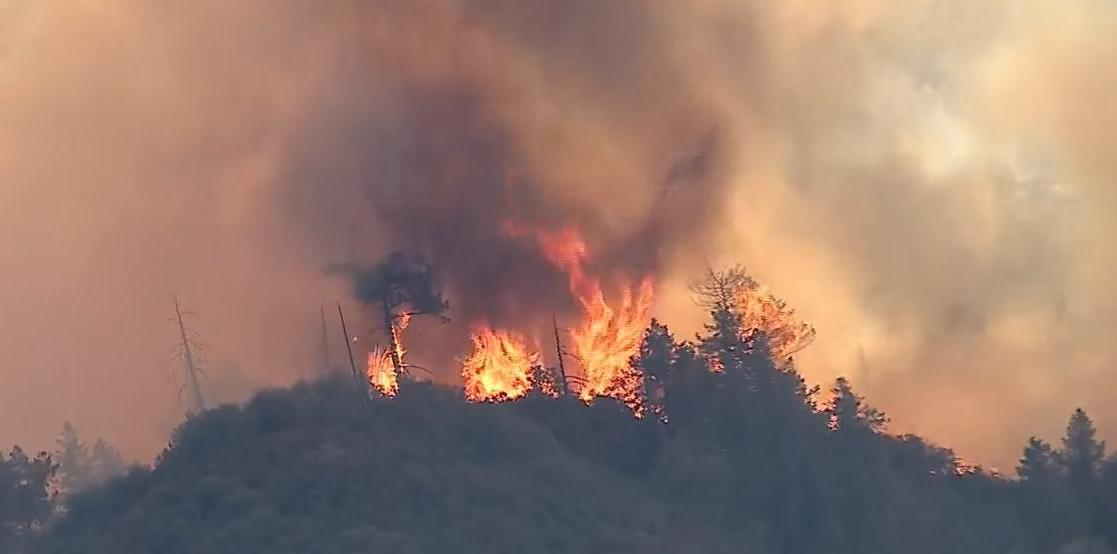Fire: (560, 228, 669, 414), (457, 318, 550, 409), (353, 309, 422, 407)
